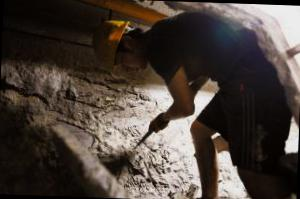person: (77, 10, 295, 199)
